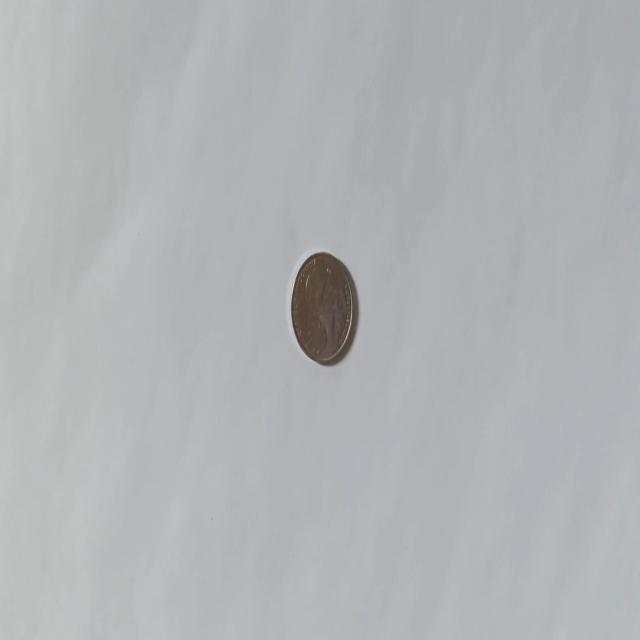seribu rupiah koin: (290, 250, 354, 366)
